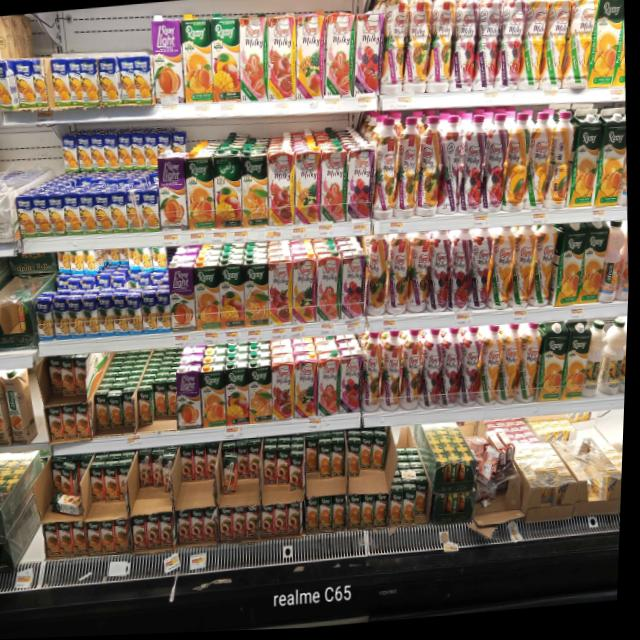ifruit_carton: (451, 461, 465, 488)
ramy_carton: (582, 0, 630, 98), (564, 113, 611, 213), (548, 226, 592, 313), (595, 112, 632, 210), (535, 323, 576, 408), (262, 15, 299, 106), (147, 16, 183, 109), (576, 226, 615, 311), (236, 16, 272, 107), (209, 17, 245, 108), (351, 11, 387, 101), (344, 141, 381, 227), (561, 324, 599, 407), (292, 13, 327, 103), (323, 11, 358, 101), (178, 18, 211, 109), (209, 150, 243, 234), (317, 145, 351, 228), (241, 147, 274, 232), (265, 147, 298, 231), (156, 150, 189, 234), (270, 345, 302, 425), (288, 242, 320, 322), (192, 150, 222, 235), (294, 147, 325, 228), (340, 247, 372, 323), (315, 342, 346, 420), (169, 260, 201, 335), (267, 252, 298, 329), (294, 345, 324, 424), (341, 340, 371, 419), (314, 251, 345, 327), (217, 253, 248, 329), (178, 363, 209, 435), (243, 255, 274, 325), (117, 53, 155, 110), (196, 260, 225, 331), (225, 363, 254, 432), (248, 362, 278, 428), (8, 57, 41, 111), (201, 372, 229, 435), (73, 54, 103, 109), (96, 55, 125, 111), (127, 185, 159, 235), (48, 56, 77, 111), (0, 369, 20, 448), (54, 457, 81, 499), (36, 293, 60, 340), (98, 127, 121, 173), (32, 192, 54, 240), (67, 295, 89, 341), (0, 57, 18, 111), (95, 188, 115, 236), (97, 294, 118, 339), (73, 354, 95, 396), (79, 190, 99, 236), (49, 191, 68, 238), (112, 189, 131, 236), (126, 293, 146, 337), (292, 447, 310, 495), (77, 401, 97, 444), (59, 355, 79, 395), (50, 356, 71, 394), (334, 437, 351, 482), (139, 388, 159, 426), (182, 446, 201, 484), (96, 392, 114, 432), (320, 441, 337, 483), (349, 438, 365, 482), (276, 504, 295, 541), (226, 456, 243, 497), (266, 446, 282, 489), (235, 505, 252, 545), (279, 446, 295, 488), (222, 507, 239, 546), (406, 487, 422, 528), (263, 506, 281, 542), (239, 443, 255, 482), (376, 435, 392, 474), (336, 496, 352, 535), (249, 506, 265, 545), (393, 488, 408, 529), (193, 510, 210, 545), (378, 494, 394, 531), (363, 432, 377, 474), (307, 438, 322, 476), (309, 501, 325, 536), (197, 445, 212, 482), (292, 504, 307, 540), (352, 495, 366, 532), (365, 496, 380, 530), (325, 499, 339, 534), (210, 444, 222, 482), (253, 442, 265, 480)
ramy_plastique: (539, 114, 578, 216), (370, 117, 404, 225), (541, 0, 579, 96), (526, 113, 561, 215), (497, 0, 533, 98), (500, 116, 534, 217), (462, 114, 495, 217), (437, 113, 469, 219), (416, 118, 448, 222), (378, 0, 411, 97), (449, 0, 482, 96), (483, 114, 514, 215), (405, 0, 436, 100), (529, 225, 563, 312), (475, 0, 505, 97), (489, 230, 522, 317), (428, 0, 457, 99), (513, 228, 545, 313), (381, 330, 410, 417), (386, 235, 416, 318), (471, 231, 500, 316), (459, 327, 488, 412), (443, 329, 471, 414), (517, 324, 545, 408), (401, 331, 429, 414), (364, 235, 393, 314), (407, 235, 434, 319), (449, 232, 476, 316), (420, 330, 447, 413), (360, 335, 387, 418), (429, 233, 455, 317), (494, 327, 520, 410)
